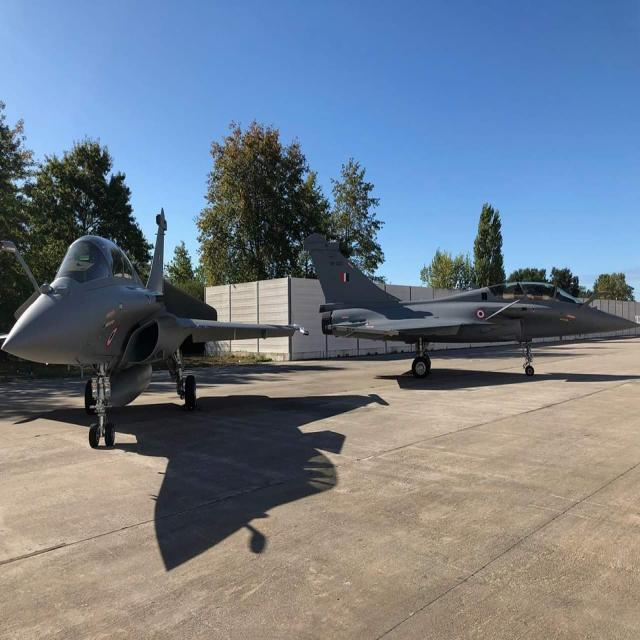MIL_Plane: (1, 206, 309, 449), (303, 233, 640, 378)
